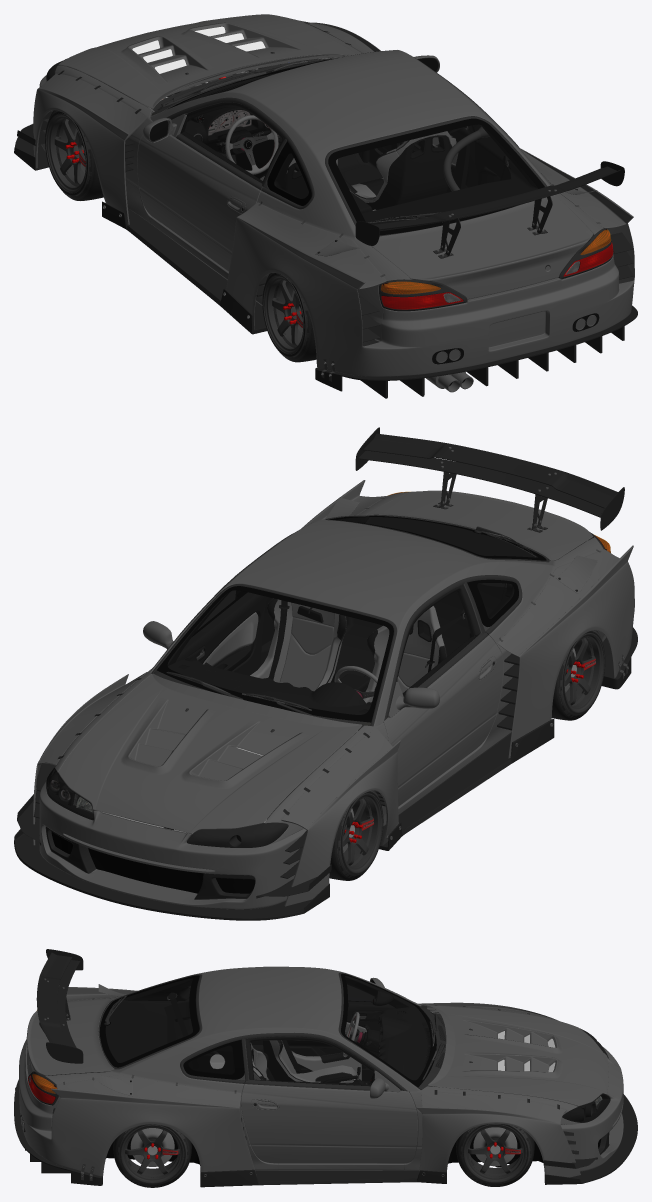
The picture shows the model from 3 angles, top to bottom: view 1: azimuth 30°, elevation 25°; view 2: azimuth 150°, elevation 25°; view 3: azimuth 270°, elevation 25°; orthographic projection. The views are drawn at different scales.
Visible parts, largest first — view 1: Object_36, Object_40, Object_42, Object_16, Object_37, Object_35, Object_38, Object_26, Object_51, Object_27, Object_53, Object_56 (+14 smaller); view 2: Object_36, Object_35, Object_42, Object_16, Object_39, Object_40, Object_38, Object_53, Object_12, Object_37, Object_26, Object_27 (+12 smaller); view 3: Object_36, Object_42, Object_40, Object_16, Object_35, Object_38, Object_26, Object_37, Object_53, Object_51, Object_27, Object_39 (+14 smaller).
Part boxes in pixels (x1=…): Object_36: x1=55, y1=16, x2=603, y2=341; Object_40: x1=226, y1=148, x2=634, y2=376; Object_42: x1=172, y1=57, x2=606, y2=302; Object_16: x1=179, y1=73, x2=592, y2=297; Object_37: x1=152, y1=57, x2=593, y2=346; Object_35: x1=58, y1=14, x2=357, y2=112; Object_38: x1=33, y1=20, x2=381, y2=224; Object_26: x1=58, y1=50, x2=612, y2=311; Object_51: x1=102, y1=201, x2=633, y2=342; Object_27: x1=167, y1=75, x2=544, y2=388; Object_53: x1=256, y1=161, x2=624, y2=296; Object_56: x1=45, y1=113, x2=304, y2=354; Object_36: x1=54, y1=492, x2=603, y2=836; Object_35: x1=58, y1=673, x2=362, y2=833; Object_42: x1=46, y1=516, x2=606, y2=820; Object_16: x1=168, y1=517, x2=593, y2=733; Object_39: x1=39, y1=779, x2=306, y2=909; Object_40: x1=301, y1=480, x2=634, y2=758; Object_38: x1=33, y1=672, x2=400, y2=906; Object_53: x1=355, y1=427, x2=624, y2=730; Object_12: x1=203, y1=599, x2=444, y2=702; Object_37: x1=60, y1=490, x2=606, y2=819; Object_26: x1=58, y1=492, x2=604, y2=834; Object_27: x1=157, y1=515, x2=546, y2=722; Object_36: x1=45, y1=966, x2=577, y2=1170; Object_42: x1=28, y1=975, x2=610, y2=1122; Object_40: x1=19, y1=987, x2=256, y2=1176; Object_16: x1=34, y1=976, x2=430, y2=1085; Object_35: x1=427, y1=1005, x2=608, y2=1105; Object_38: x1=417, y1=1002, x2=580, y2=1182; Object_26: x1=28, y1=972, x2=606, y2=1106; Object_37: x1=26, y1=999, x2=439, y2=1075; Object_53: x1=36, y1=949, x2=248, y2=1146; Object_51: x1=53, y1=1108, x2=446, y2=1187; Object_27: x1=99, y1=973, x2=436, y2=1087; Object_39: x1=560, y1=1046, x2=623, y2=1171.
Bounding box in the file's own units: 2.02 × 1.14 × 4.59.
Materials: 32 (20 with a texture image).
